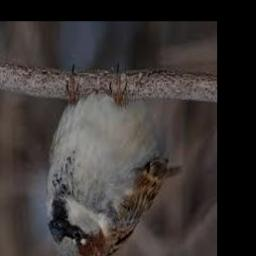Sparrow: (47, 65, 185, 256)
